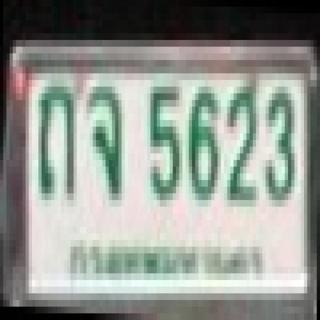A08: (82, 83, 132, 204)
A22: (34, 83, 82, 204)
N02: (223, 84, 264, 208)
N03: (260, 84, 299, 204)
N05: (141, 82, 185, 203)
N06: (185, 82, 220, 199)
P04: (67, 232, 272, 285)
